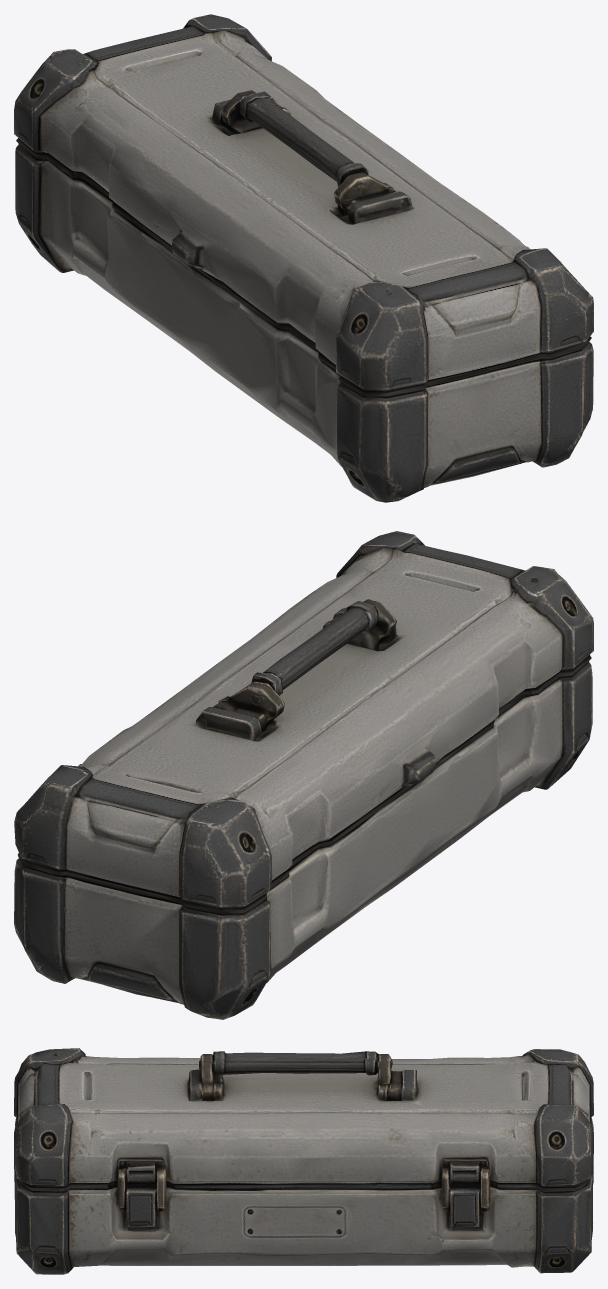
The model's file is PROP-SAMPLE-CORECASE.glb.
The picture shows the model from 3 angles, top to bottom: view 1: azimuth 30°, elevation 25°; view 2: azimuth 150°, elevation 25°; view 3: azimuth 270°, elevation 25°; orthographic projection. The views are drawn at different scales.
Parts seen in each view (by area): view 1: tripo_node_96f7adc2-ca55-42ab-864d-333a01fe0e83; view 2: tripo_node_96f7adc2-ca55-42ab-864d-333a01fe0e83; view 3: tripo_node_96f7adc2-ca55-42ab-864d-333a01fe0e83.
Part boxes in pixels (x1,y1,x2,y2): tripo_node_96f7adc2-ca55-42ab-864d-333a01fe0e83: (14,14,593,502); tripo_node_96f7adc2-ca55-42ab-864d-333a01fe0e83: (14,531,593,1019); tripo_node_96f7adc2-ca55-42ab-864d-333a01fe0e83: (14,1048,593,1274).
Size of the model in its own units: 0.3924 by 0.3473 by 1.
1 material, 1 textured.
